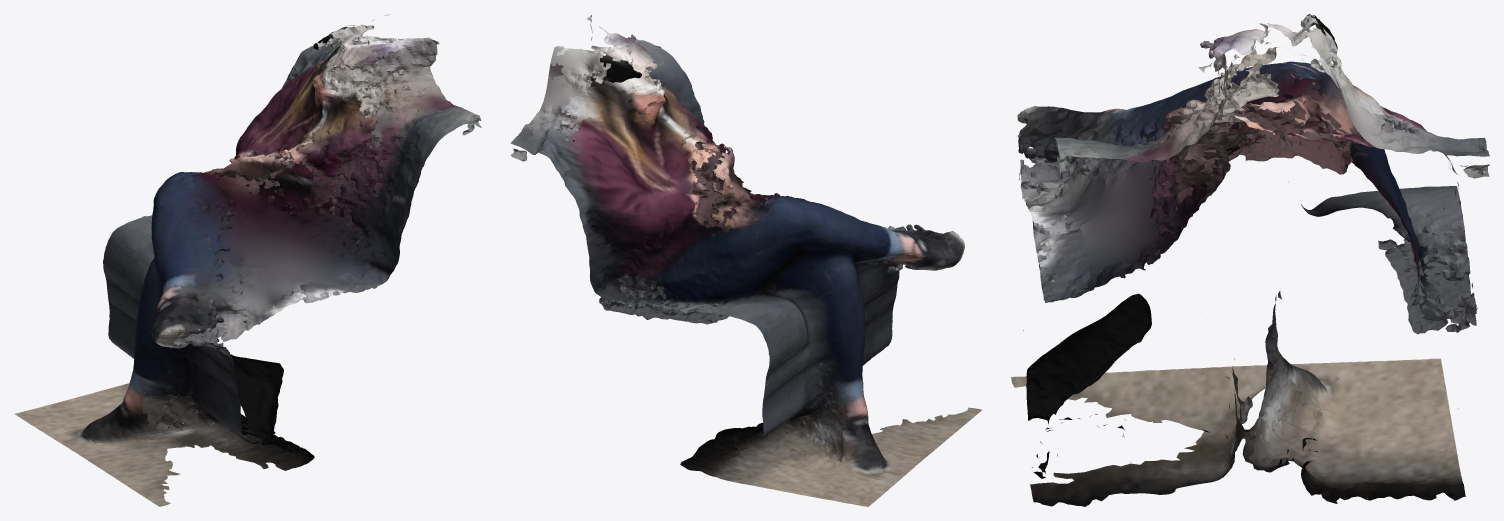
3 renders of one model, left to right at view 1: azimuth 30°, elevation 25°; view 2: azimuth 150°, elevation 25°; view 3: azimuth 270°, elevation 25°, orthographic. The views are drawn at different scales.
Size of the model in its own units: 1.04 by 0.9764 by 0.7331.
Materials: 1 (1 with a texture image).
